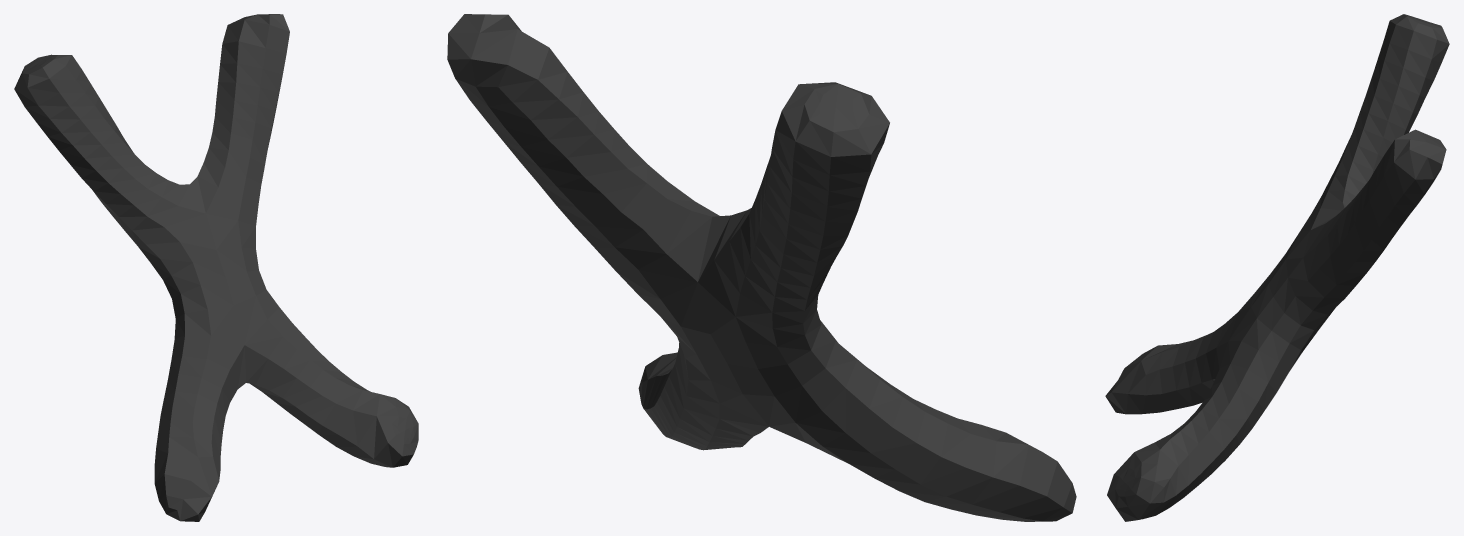
Rendered from Cruciate_ligament.glb.
3 renders of one model, left to right at view 1: azimuth 30°, elevation 25°; view 2: azimuth 150°, elevation 25°; view 3: azimuth 270°, elevation 25°, orthographic. The views are drawn at different scales.
Parts seen in each view (by area): view 1: Cruciate_ligament; view 2: Cruciate_ligament; view 3: Cruciate_ligament.
Part boxes in pixels (x1,y1,x2,y2): Cruciate_ligament: (14,14,418,521); Cruciate_ligament: (447,14,1076,521); Cruciate_ligament: (1105,14,1449,521).
Size of the model in its own units: 6.06 by 7.75 by 6.16.
Materials: 1 (1 with a texture image).
